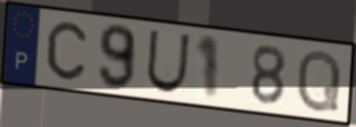1: (193, 34, 220, 103)
8: (250, 42, 287, 107)
9: (94, 22, 138, 92)
C: (44, 19, 89, 83)
Q: (294, 47, 343, 114)
U: (144, 27, 193, 95)
